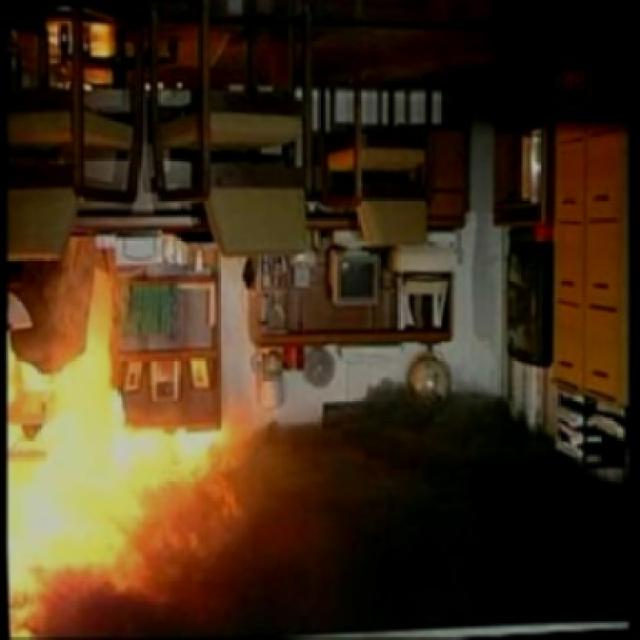fire: (0, 321, 269, 634)
